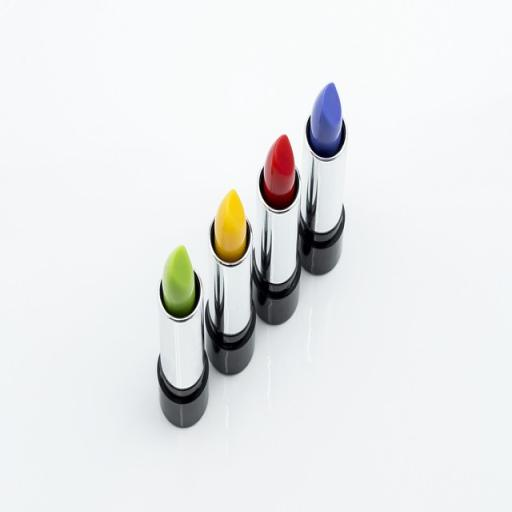lipstick: (157, 246, 208, 426), (299, 83, 347, 274), (206, 191, 255, 374), (253, 136, 300, 323)
